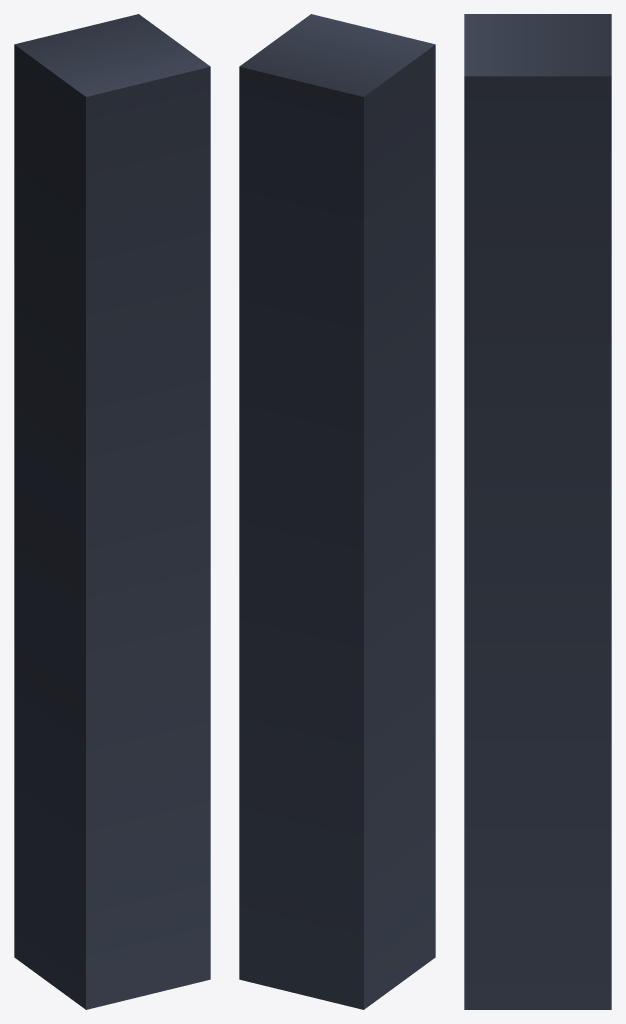
Rendered from KIT_Wall_End_2.glb.
The picture shows the model from 3 angles, left to right: view 1: azimuth 30°, elevation 25°; view 2: azimuth 150°, elevation 25°; view 3: azimuth 270°, elevation 25°; orthographic projection. The views are drawn at different scales.
Visible parts, largest first — view 1: KIT_Wall_End_2; view 2: KIT_Wall_End_2; view 3: KIT_Wall_End_2.
Boxes of the visible parts, x1=… form: KIT_Wall_End_2: x1=14, y1=14, x2=210, y2=1009; KIT_Wall_End_2: x1=239, y1=14, x2=435, y2=1009; KIT_Wall_End_2: x1=464, y1=14, x2=611, y2=1009.
Size of the model in its own units: 0.6 by 4.2 by 0.6.
1 material, 1 textured.
